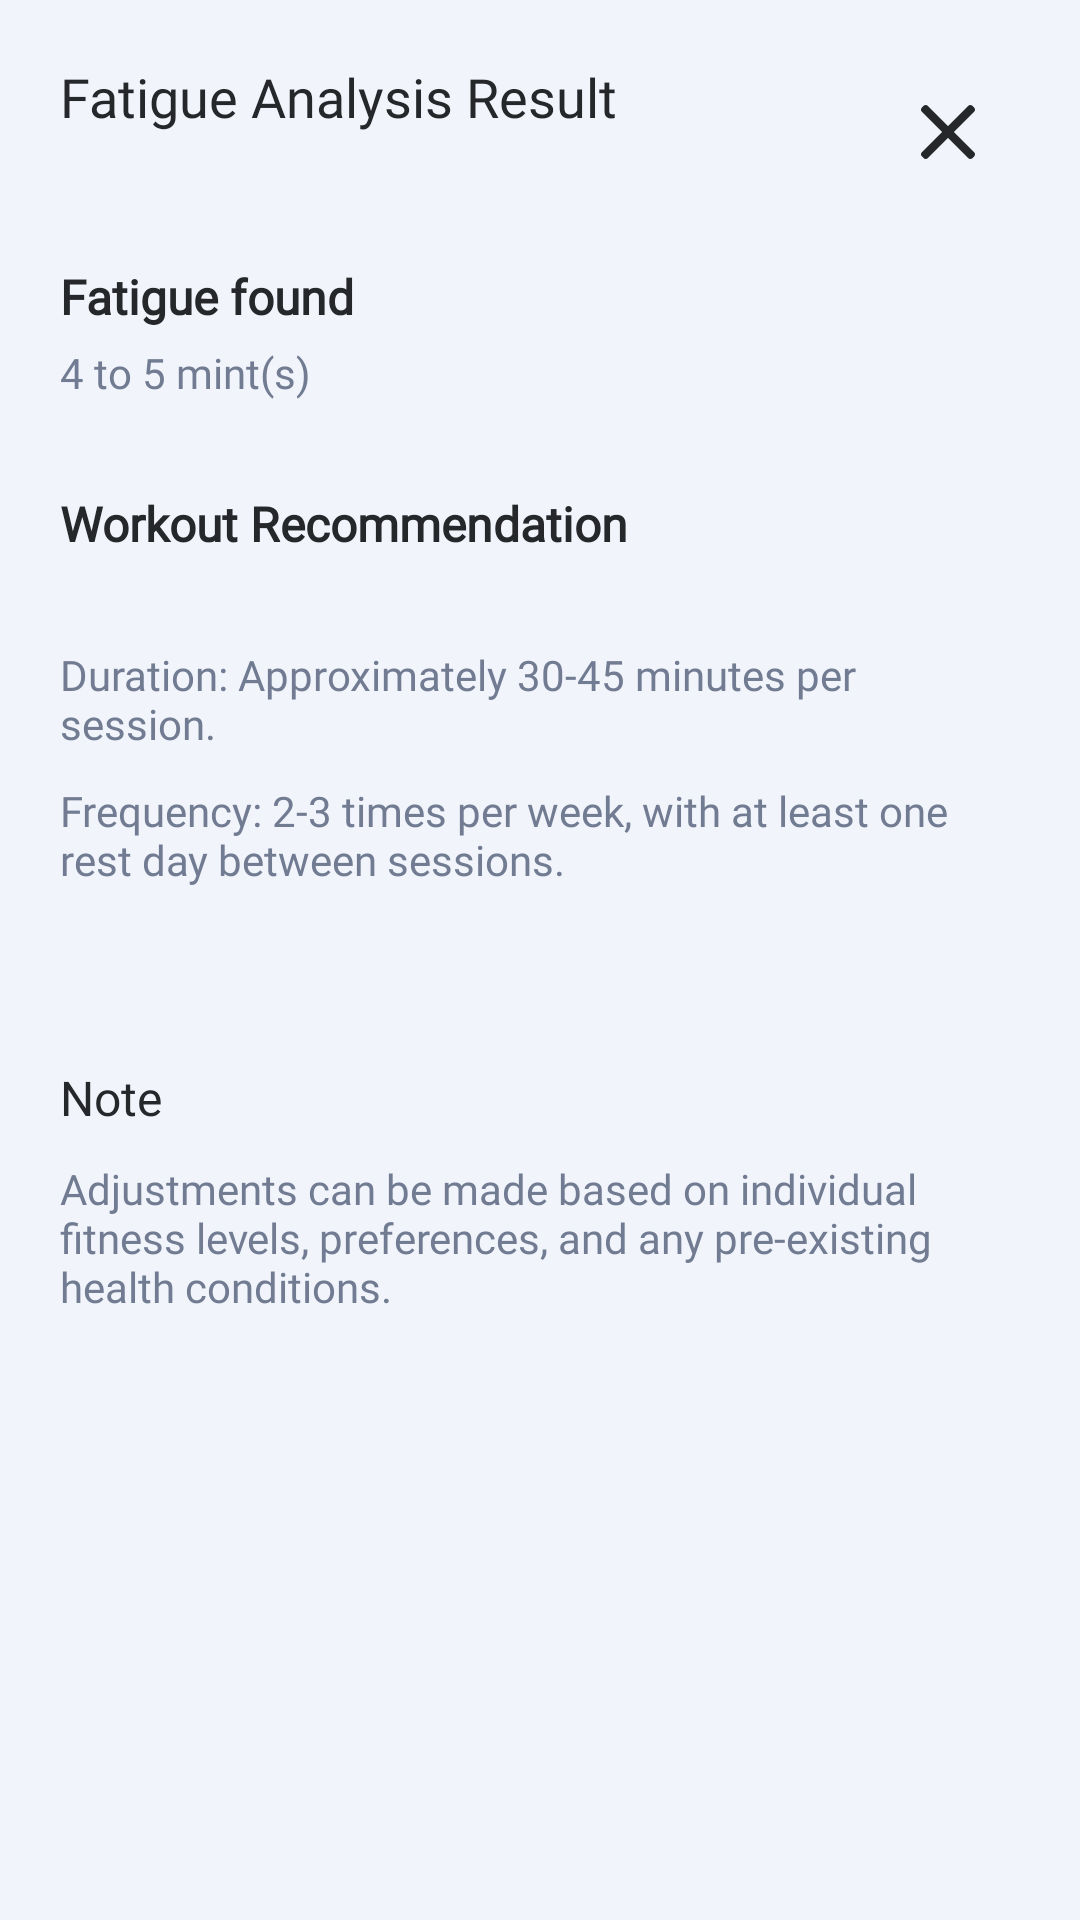

Named icons in this screenshot (1080 × 1920) and their bounding boxes, rect(x1, y1, x2, y2):
close: rect(921, 105, 975, 159)
